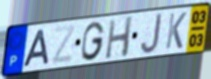A: (22, 28, 50, 69)
G: (80, 20, 106, 62)
H: (104, 15, 134, 61)
J: (139, 12, 163, 56)
K: (164, 11, 188, 51)
Z: (50, 23, 78, 66)
